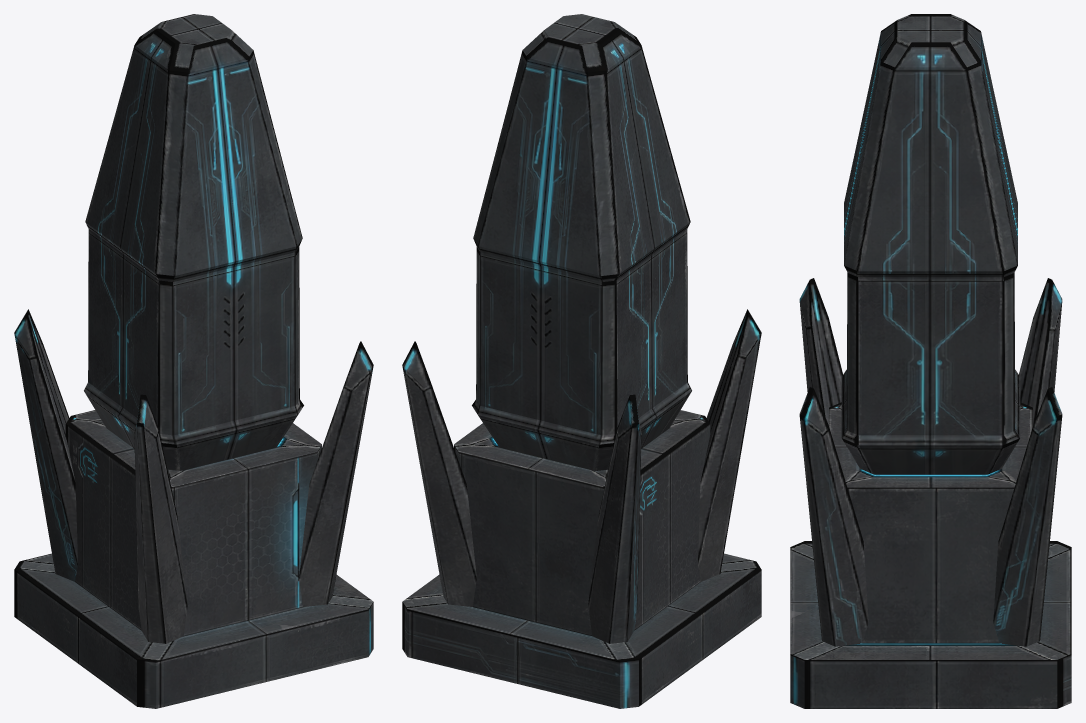
The model's file is dataspire.glb.
3 views of the same model, side by side, from view 1: azimuth 30°, elevation 25°; view 2: azimuth 150°, elevation 25°; view 3: azimuth 270°, elevation 25° (orthographic). The views are drawn at different scales.
Visible parts, largest first — view 1: DataSpire.Base, DataSpire.Spikes; view 2: DataSpire.Base, DataSpire.Spikes; view 3: DataSpire.Base, DataSpire.Spikes.
Boxes of the visible parts, x1=… form: DataSpire.Base: x1=14, y1=14, x2=373, y2=708; DataSpire.Spikes: x1=14, y1=309, x2=373, y2=643; DataSpire.Base: x1=402, y1=14, x2=761, y2=708; DataSpire.Spikes: x1=402, y1=309, x2=761, y2=643; DataSpire.Base: x1=790, y1=14, x2=1071, y2=708; DataSpire.Spikes: x1=799, y1=278, x2=1062, y2=646.
Size of the model in its own units: 1.23 by 2.99 by 1.23.
Materials: 1 (1 with a texture image).
